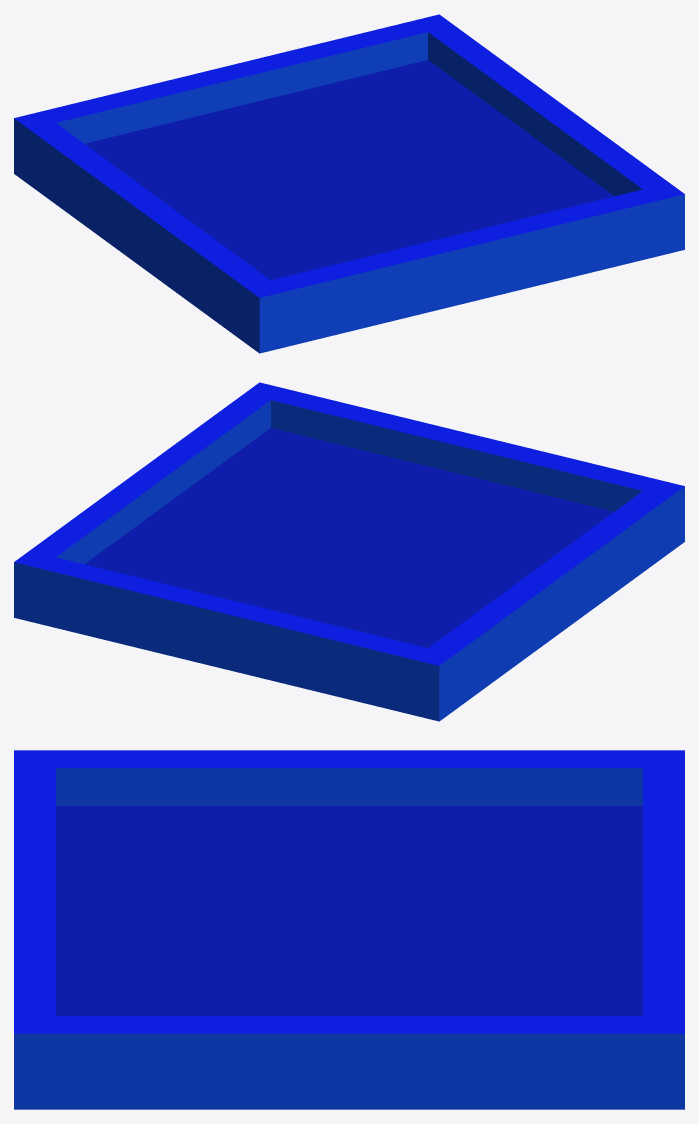
The model's file is DropSpot1.dae.
3 views of the same model, one above another, from view 1: azimuth 30°, elevation 25°; view 2: azimuth 150°, elevation 25°; view 3: azimuth 270°, elevation 25° (orthographic). The views are drawn at different scales.
Parts seen in each view (by area): view 1: SketchUp (×4); view 2: SketchUp (×4); view 3: SketchUp (×4).
Boxes of the visible parts, x1,y1,x2,y2 form: SketchUp (×4): (14, 14, 684, 353); SketchUp (×4): (14, 382, 684, 721); SketchUp (×4): (14, 750, 684, 1109).
Size of the model in its own units: 1 by 1 by 0.125.
